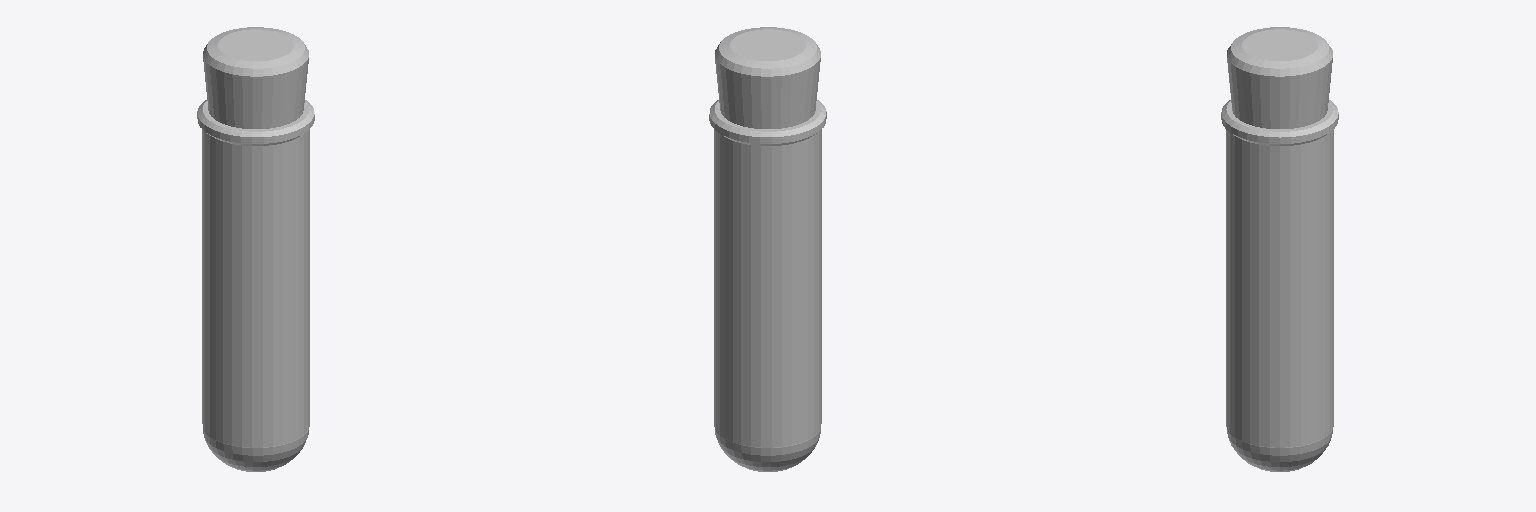
File: demi_potion_mineure.obj
3 views of the same model, side by side, from view 1: azimuth 30°, elevation 25°; view 2: azimuth 150°, elevation 25°; view 3: azimuth 270°, elevation 25° (orthographic).
Visible parts, largest first — view 1: Sphère, Cylindre; view 2: Sphère, Cylindre; view 3: Sphère, Cylindre.
Boxes of the visible parts, x1,y1,x2,y2 form: Sphère: [197, 100, 314, 471]; Cylindre: [203, 27, 308, 128]; Sphère: [709, 100, 826, 471]; Cylindre: [715, 27, 820, 128]; Sphère: [1221, 100, 1338, 471]; Cylindre: [1227, 27, 1332, 128].
Bounding box in the file's own units: 0.0274 × 0.1083 × 0.0274.